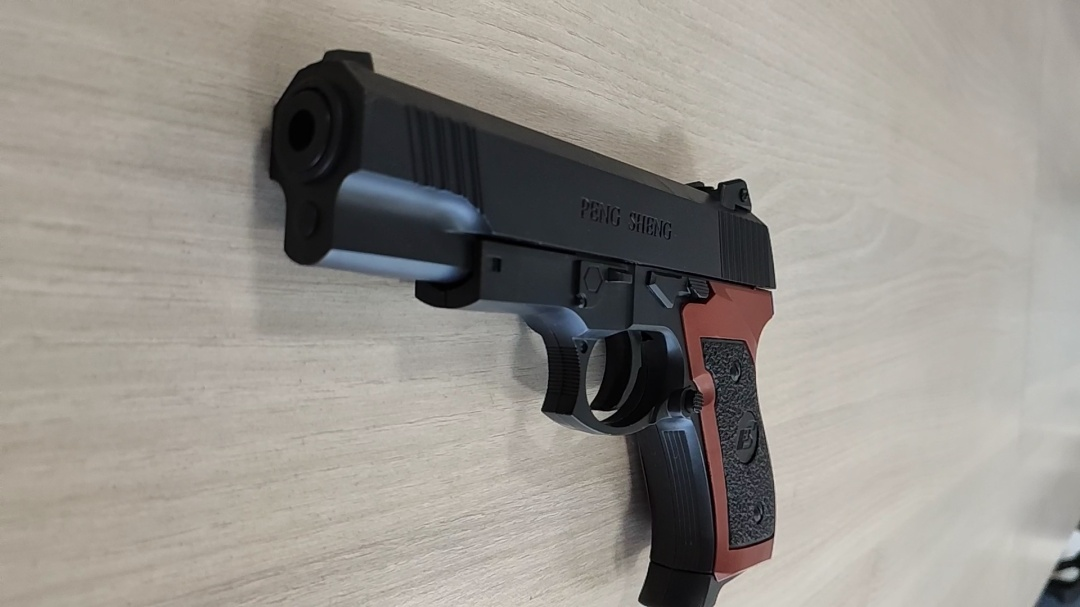gun: (265, 45, 780, 607)
